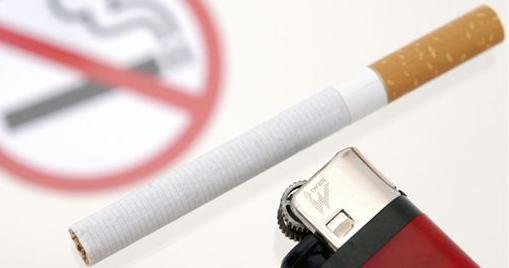smoke: (68, 6, 505, 267)
